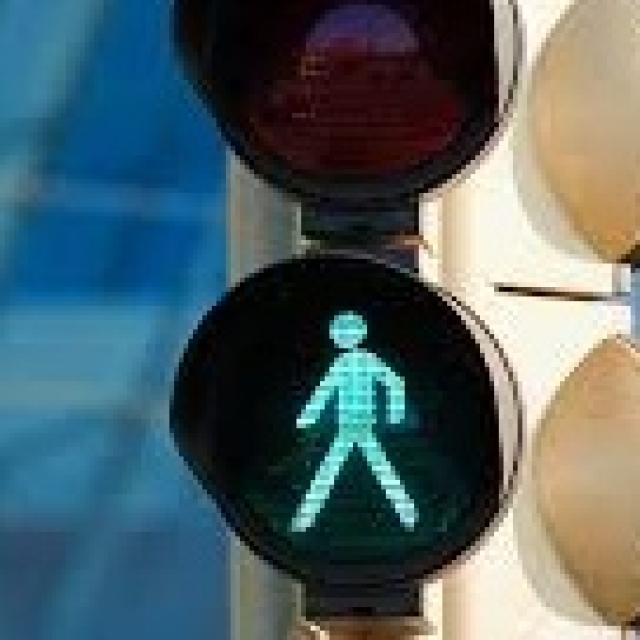green_light: (273, 287, 423, 555)
